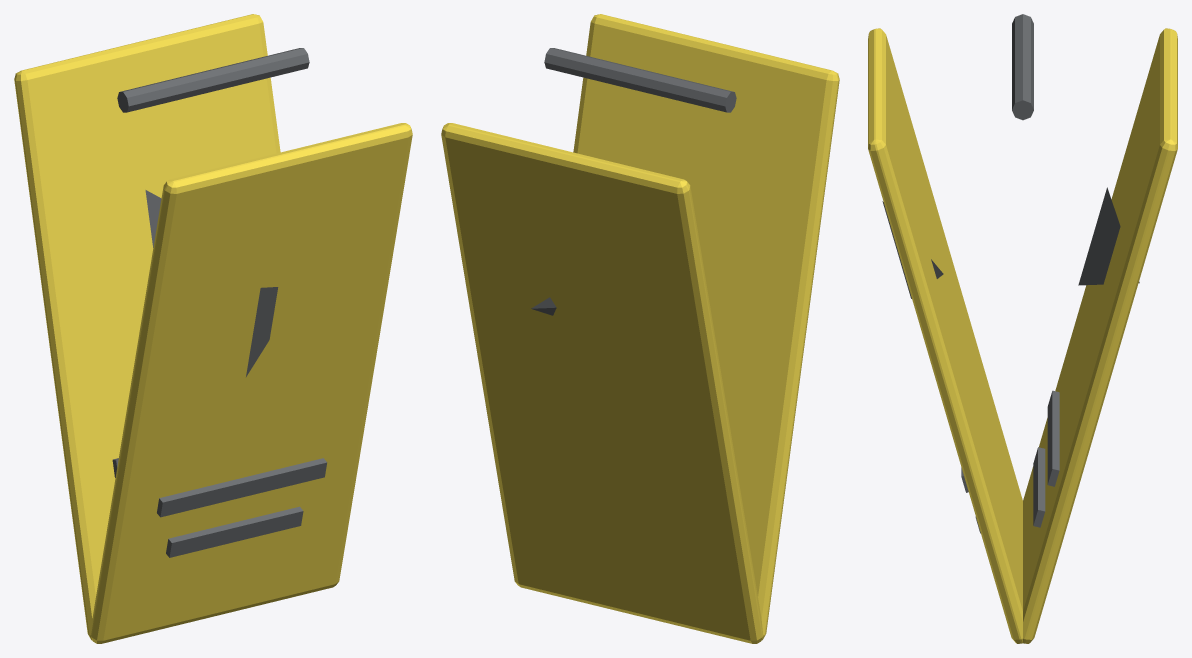
File: car-repair-garage-and-mot-workshop-car-repair-garage-a-bf888007__34036.glb
3 renders of one model, left to right at view 1: azimuth 30°, elevation 25°; view 2: azimuth 150°, elevation 25°; view 3: azimuth 270°, elevation 25°, orthographic. The views are drawn at different scales.
Visible parts, largest first — view 1: car-repair-garage-and-mot-workshop-wet-floor-sign; view 2: car-repair-garage-and-mot-workshop-wet-floor-sign; view 3: car-repair-garage-and-mot-workshop-wet-floor-sign.
Part boxes in pixels (<box>): car-repair-garage-and-mot-workshop-wet-floor-sign: <box>14,14,412,643</box>; car-repair-garage-and-mot-workshop-wet-floor-sign: <box>441,14,839,643</box>; car-repair-garage-and-mot-workshop-wet-floor-sign: <box>868,14,1177,643</box>.
Size of the model in its own units: 0.3 by 0.6319 by 0.3341.
